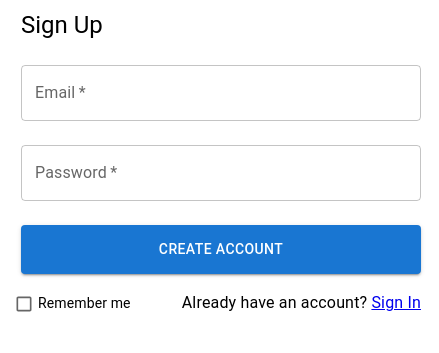
Test: RegistrationComponent › handles registration failure
The width and height of the screenshot is (439, 353).
Type "existing@example.com" into the field labelled "Email *" at (221, 93), box [21, 65, 421, 121]
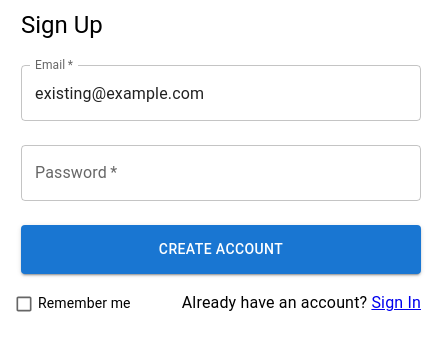
Type "password123" into the password field labelled "Password *" at (221, 173), box [21, 145, 421, 201]
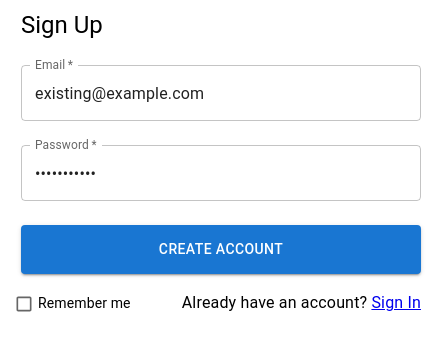
Click the button "Create Account" at (221, 250), box [21, 225, 421, 274]
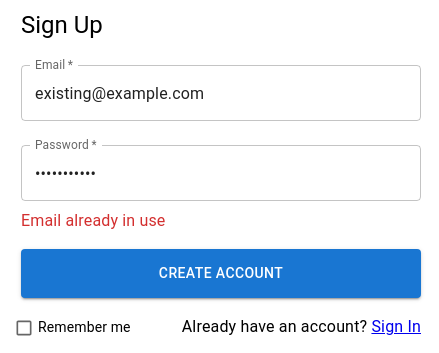
Expected: the text "Email already in use" is shown, [21, 211, 166, 230]
